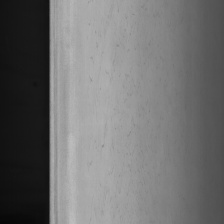silk_spot: (90, 16, 148, 200)
